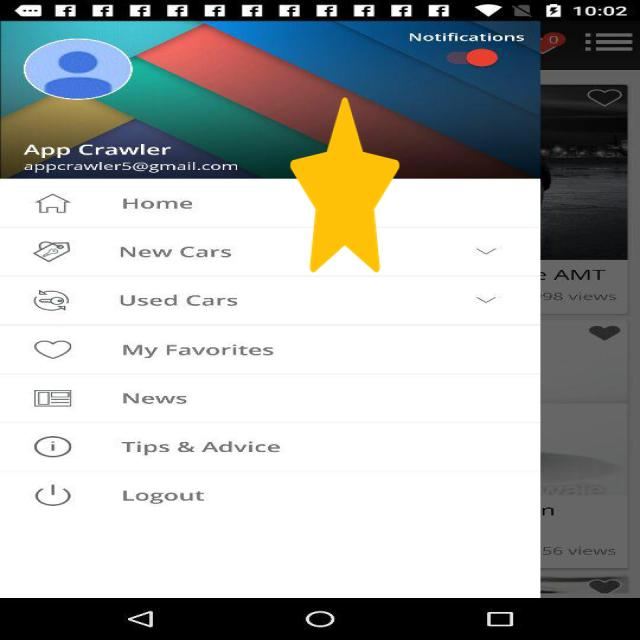forced continuity: (290, 97, 400, 273)
